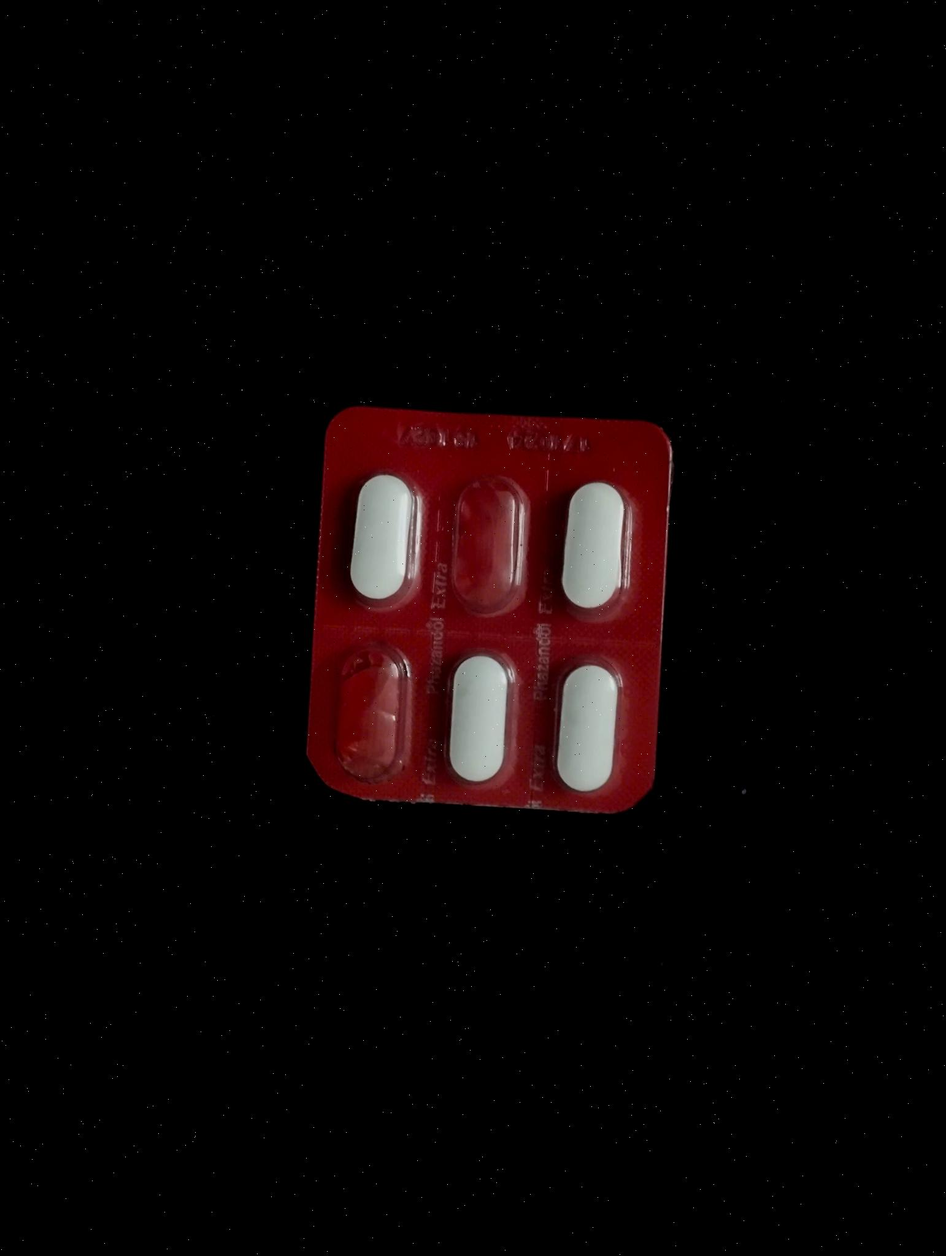Empty: (315, 643, 422, 789), (446, 473, 535, 628)
Full: (331, 453, 431, 616), (543, 477, 638, 624), (542, 649, 631, 796), (435, 651, 518, 792)
